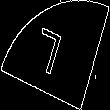L_S: (36, 26, 74, 84)
